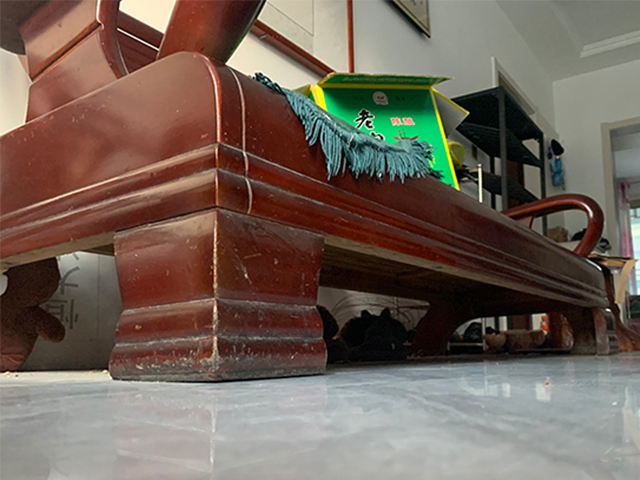sofa: (1, 1, 620, 383)
